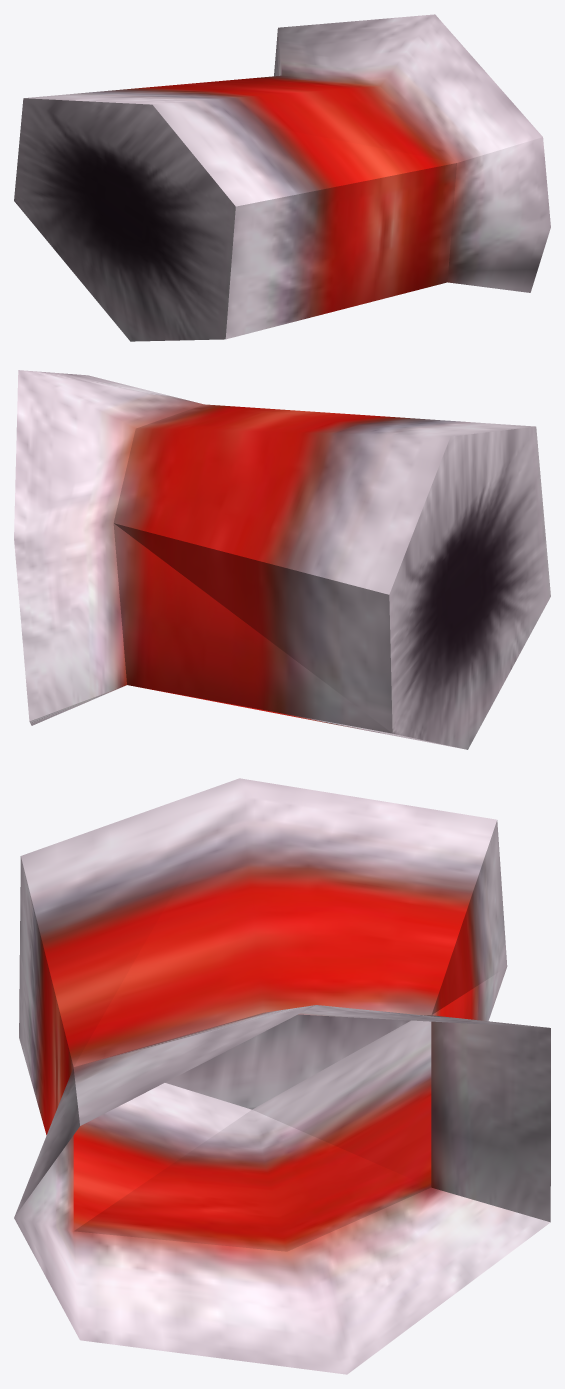
File: Item14R02.FBX
The picture shows the model from 3 angles, top to bottom: view 1: azimuth 30°, elevation 25°; view 2: azimuth 150°, elevation 25°; view 3: azimuth 270°, elevation 25°; orthographic projection. The views are drawn at different scales.
Visible parts, largest first — view 1: item14r02; view 2: item14r02; view 3: item14r02.
Boxes of the visible parts, x1,y1,x2,y2 form: item14r02: (14,14,550,341); item14r02: (14,370,550,749); item14r02: (14,778,550,1374).
Bounding box in the file's own units: 6.29 × 4.21 × 5.24.
2 materials, 2 textured.
